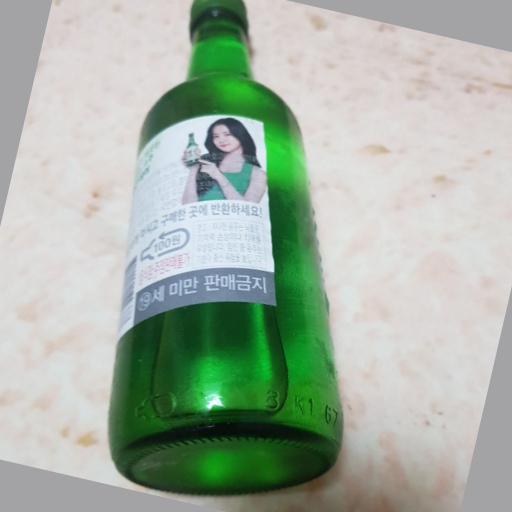Glass_0: (113, 2, 344, 496)
